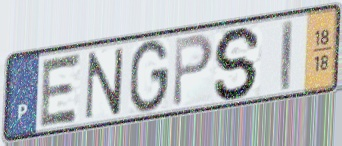E: (36, 50, 83, 130)
G: (127, 37, 172, 115)
I: (280, 17, 295, 94)
N: (82, 45, 126, 122)
P: (171, 31, 216, 110)
S: (212, 24, 265, 102)
